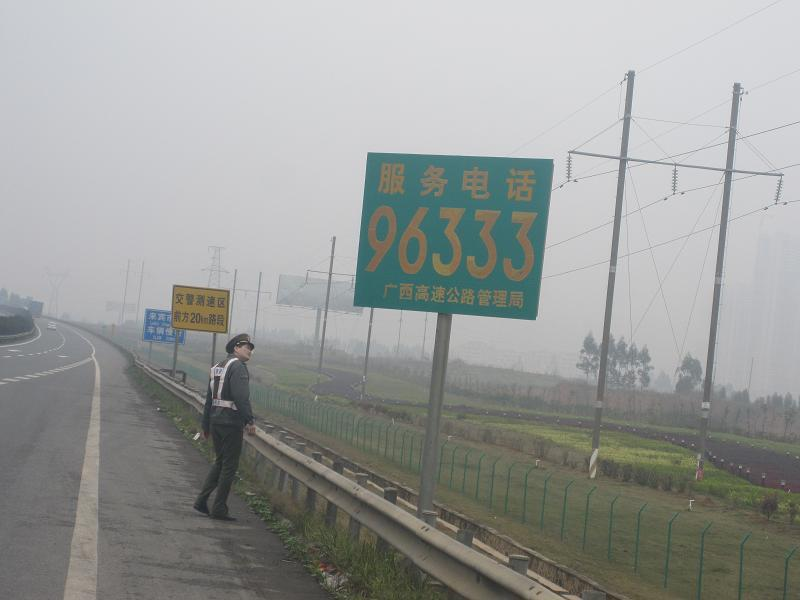bus: (27, 300, 43, 318)
car: (192, 333, 256, 521), (47, 321, 57, 330)
